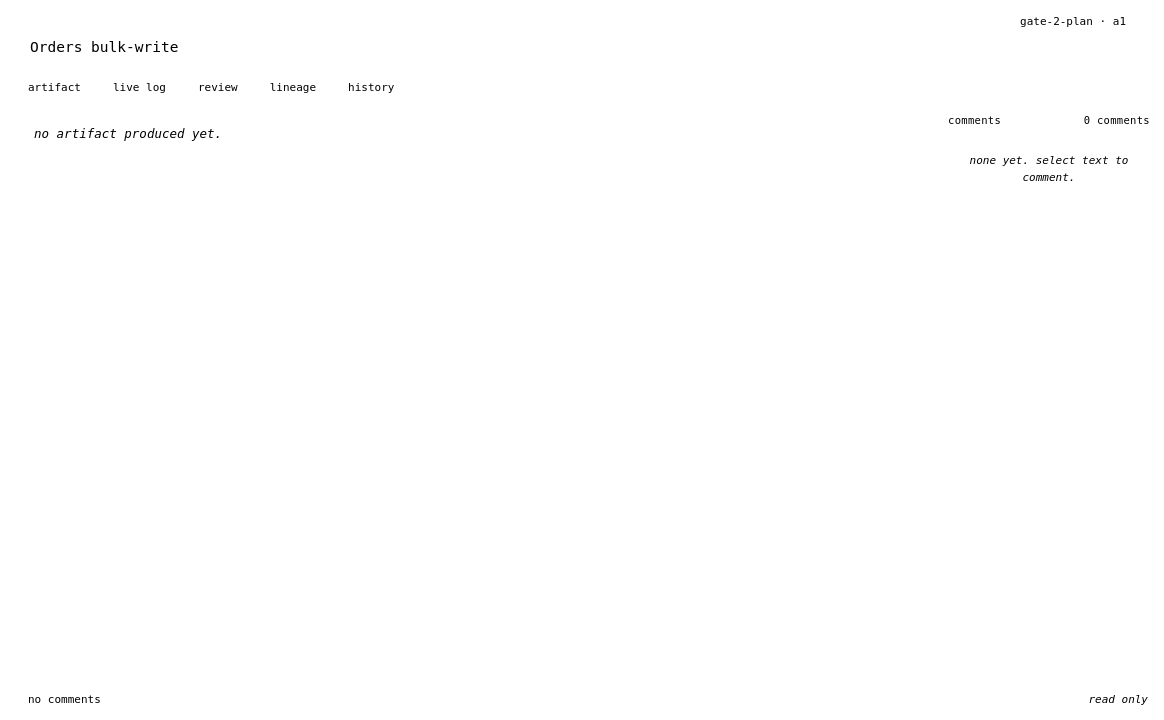
Scenario: CardDrawer › renders output as prose and thinking dimmed with a marker
Click the tab "live log": (140, 88) x1=97 y1=72 x2=182 y2=103
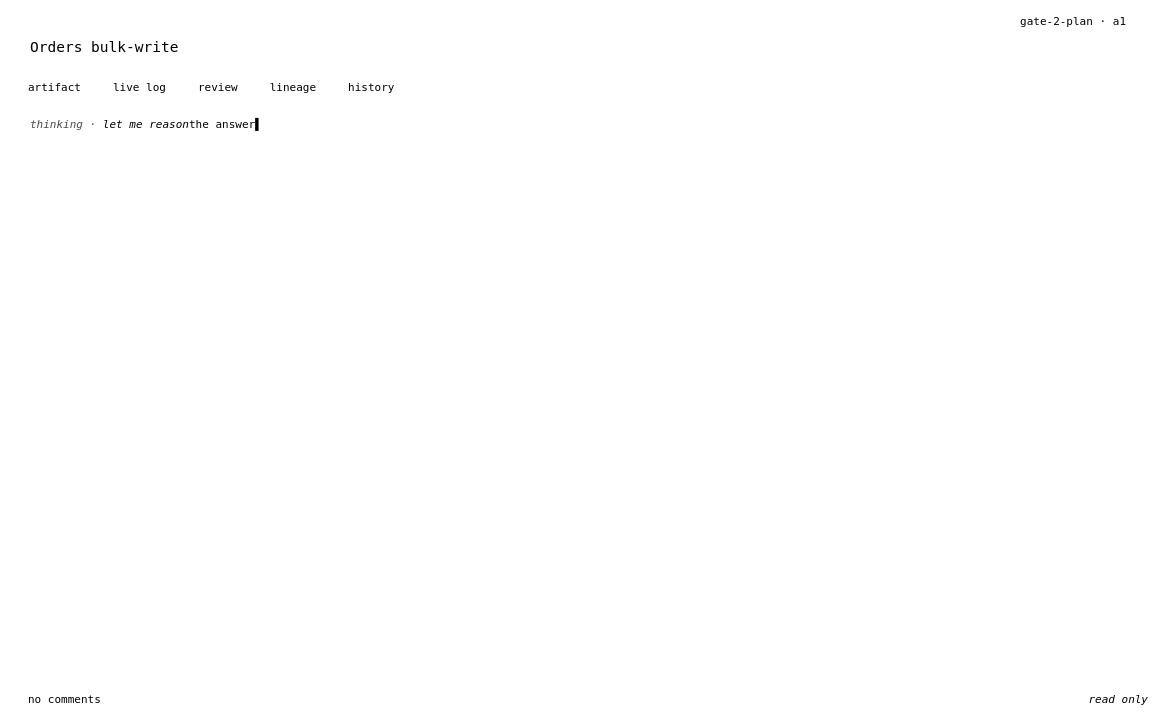
expect the text "the answer" is shown: met, box x1=189 y1=118 x2=255 y2=131
expect the text "thinking · let me reason" is shown: met, box x1=30 y1=118 x2=189 y2=131
expect the text "thinking ·" is shown: met, box x1=30 y1=118 x2=103 y2=131
